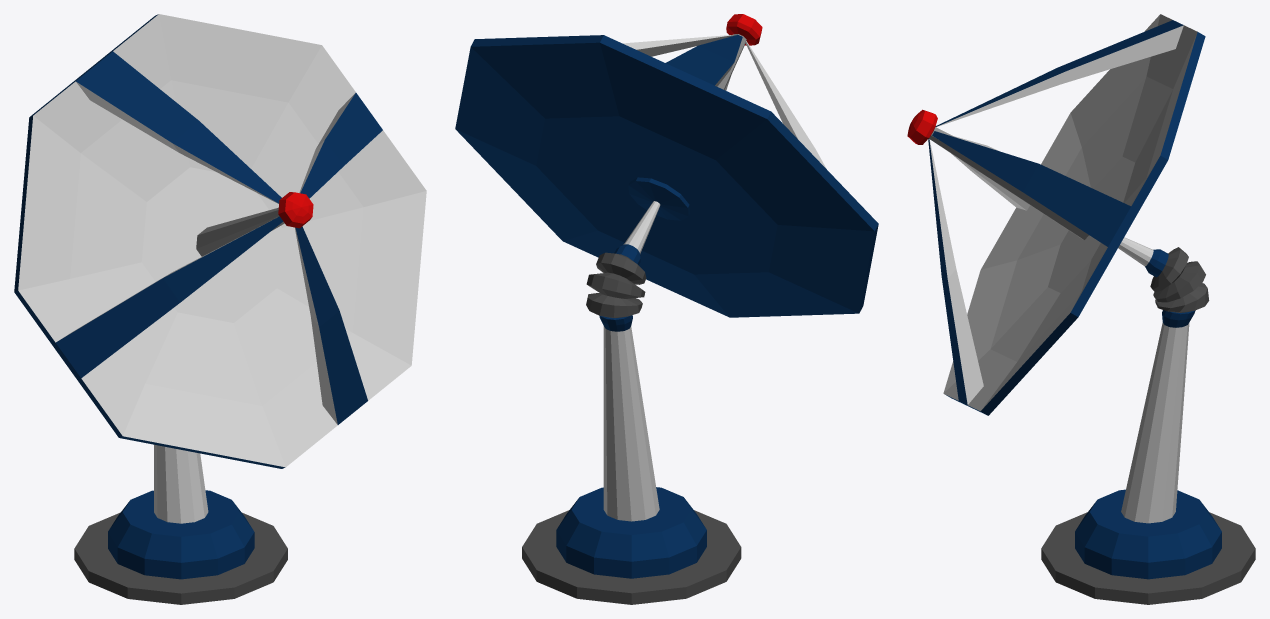
File: Satellite_Dish_B.fbx
The picture shows the model from 3 angles, left to right: view 1: azimuth 30°, elevation 25°; view 2: azimuth 150°, elevation 25°; view 3: azimuth 270°, elevation 25°; orthographic projection. The views are drawn at different scales.
Parts seen in each view (by area): view 1: Dish_B, pCylinder73, pCylinder64, pSphere2; view 2: Dish_B, pCylinder73, pSphere2; view 3: Dish_B, pCylinder73, pCylinder64, pSphere2.
Boxes of the visible parts, x1,y1,x2,y2 form: Dish_B: (14, 14, 426, 468); pCylinder73: (74, 444, 287, 604); pCylinder64: (196, 207, 284, 256); pSphere2: (278, 192, 313, 228); Dish_B: (455, 34, 878, 317); pCylinder73: (522, 177, 741, 604); pSphere2: (726, 14, 762, 45); Dish_B: (928, 14, 1205, 415); pCylinder73: (1041, 237, 1255, 604); pCylinder64: (929, 127, 1088, 239); pSphere2: (907, 109, 937, 144).
Size of the model in its own units: 8.33 by 6.13 by 10.27.
